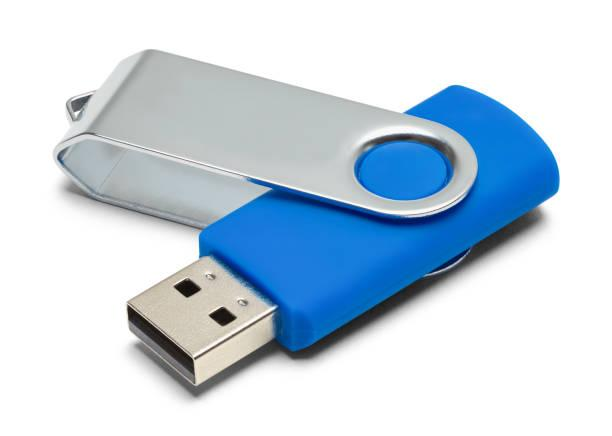USB Flash Drive: (53, 49, 562, 386)
